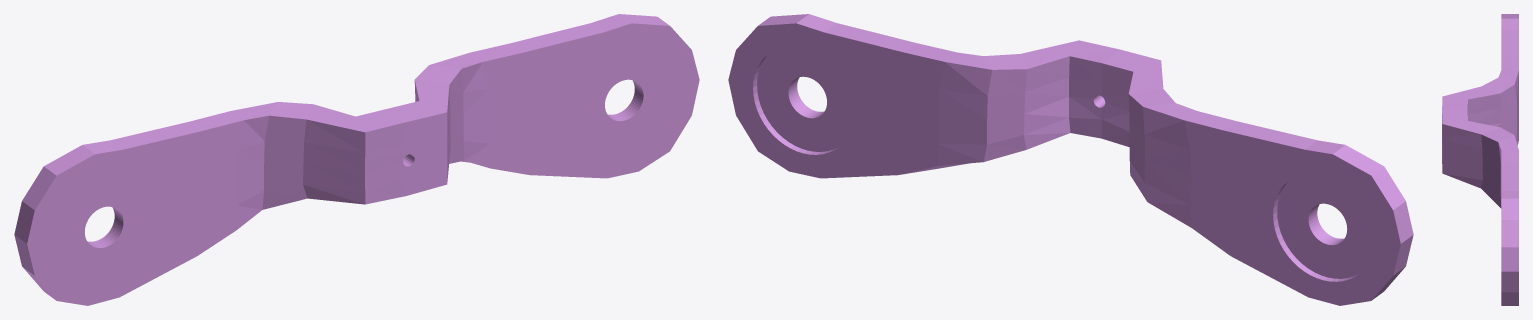
The model's file is Piece 3.obj.
The picture shows the model from 3 angles, left to right: view 1: azimuth 30°, elevation 25°; view 2: azimuth 150°, elevation 25°; view 3: azimuth 270°, elevation 25°; orthographic projection. The views are drawn at different scales.
Visible parts, largest first — view 1: Object.1; view 2: Object.1; view 3: Object.1.
Part boxes in pixels (x1,y1,x2,y2): Object.1: [14, 14, 699, 305]; Object.1: [728, 14, 1413, 305]; Object.1: [1442, 14, 1518, 305].
Size of the model in its own units: 139 by 29.67 by 20.06.
